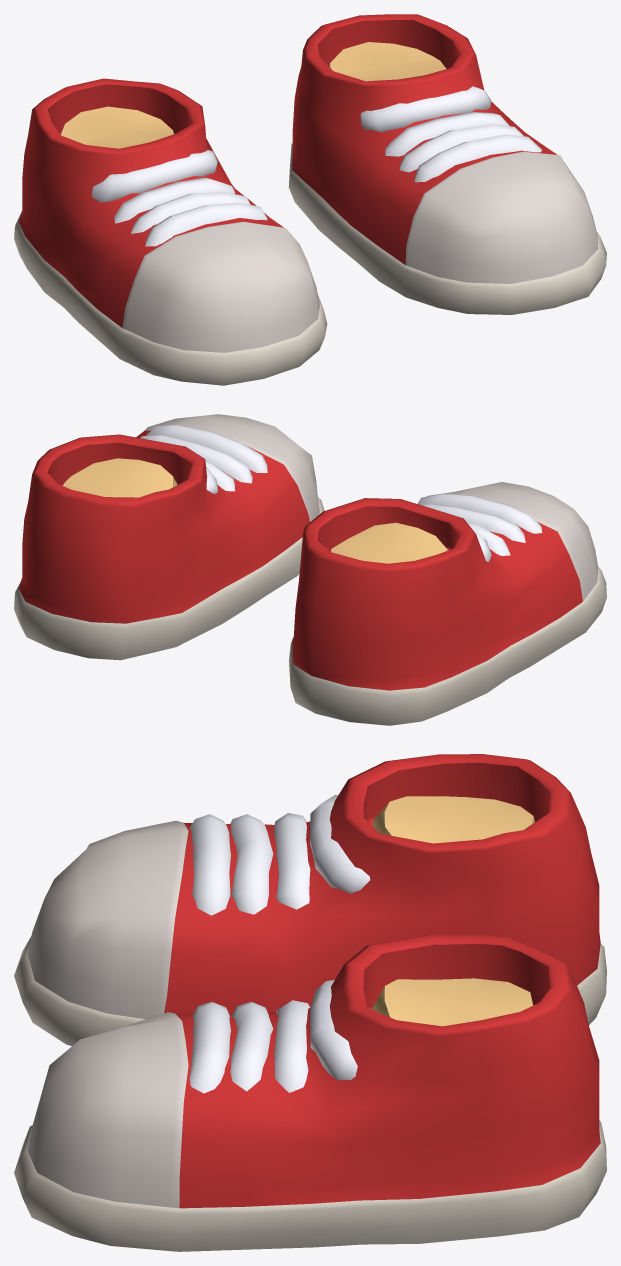
Rendered from Shoes_13_01.fbx.
The picture shows the model from 3 angles, top to bottom: view 1: azimuth 30°, elevation 25°; view 2: azimuth 150°, elevation 25°; view 3: azimuth 270°, elevation 25°; orthographic projection. The views are drawn at different scales.
Visible parts, largest first — view 1: Shoes_13_01; view 2: Shoes_13_01; view 3: Shoes_13_01.
Boxes of the visible parts, x1,y1,x2,y2 form: Shoes_13_01: (14,14,606,385); Shoes_13_01: (14,414,606,725); Shoes_13_01: (14,754,606,1251).
Size of the model in its own units: 30.33 by 9.21 by 23.86.
